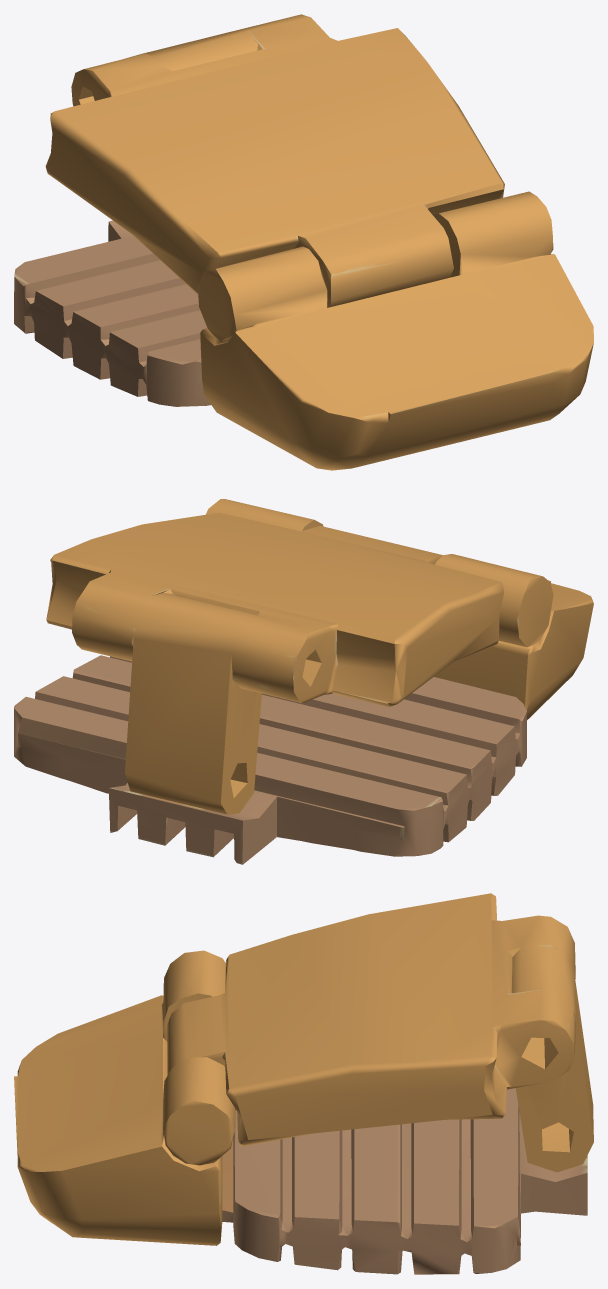
File: link_finger_tip_simplified.3obj.obj
3 views of the same model, one above another, from view 1: azimuth 30°, elevation 25°; view 2: azimuth 150°, elevation 25°; view 3: azimuth 270°, elevation 25° (orthographic). The views are drawn at different scales.
Visible parts, largest first — view 1: link_finger_tip whole_robot; view 2: link_finger_tip whole_robot; view 3: link_finger_tip whole_robot.
Part boxes in pixels (left/top/right/bottom): link_finger_tip whole_robot: left=14, top=14, right=593, bottom=470; link_finger_tip whole_robot: left=14, top=499, right=593, bottom=864; link_finger_tip whole_robot: left=14, top=893, right=593, bottom=1274.
Bounding box in the file's own units: 0.039 × 0.0206 × 0.0481.
